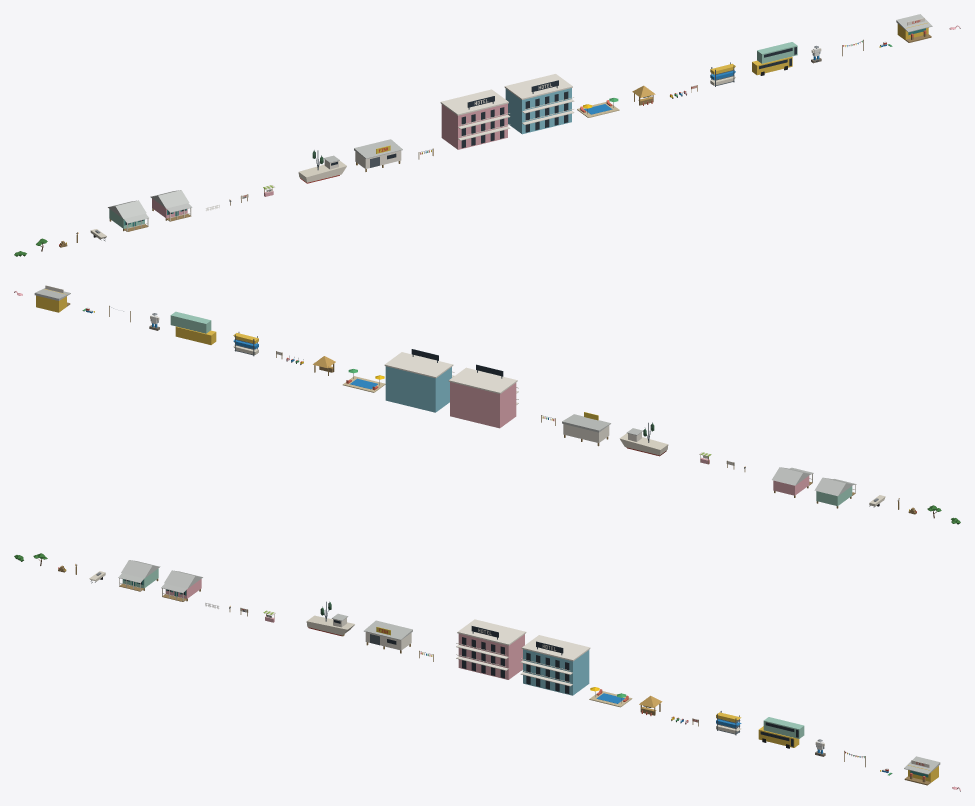
Rendered from keys-roadside.glb.
3 renders of one model, top to bottom at view 1: azimuth 30°, elevation 25°; view 2: azimuth 150°, elevation 25°; view 3: azimuth 330°, elevation 25°, orthographic.
Visible parts, largest first — view 1: keys_hotel_a_body, keys_hotel_b_body, keys_bus_stack_body, keys_fish_house_body, keys_cottage_b_body, keys_cottage_a_body, keys_shrimp_boat_body, keys_closed_bar_body; view 2: keys_hotel_a_body, keys_hotel_b_body, keys_fish_house_body, keys_bus_stack_body, keys_cottage_b_body, keys_cottage_a_body, keys_shrimp_boat_body, keys_closed_bar_body; view 3: keys_hotel_b_body, keys_hotel_a_body, keys_fish_house_body, keys_bus_stack_body, keys_cottage_a_body, keys_cottage_b_body, keys_shrimp_boat_body, keys_closed_bar_body.
Boxes of the visible parts, box(x1,y1,x2,y2) form: keys_hotel_a_body: box(440, 89, 510, 149); keys_hotel_b_body: box(504, 74, 574, 134); keys_bus_stack_body: box(752, 42, 797, 75); keys_fish_house_body: box(354, 139, 402, 171); keys_cottage_b_body: box(150, 190, 192, 221); keys_cottage_a_body: box(108, 200, 148, 231); keys_shrimp_boat_body: box(298, 150, 346, 183); keys_closed_bar_body: box(896, 14, 932, 42); keys_hotel_a_body: box(448, 364, 518, 428); keys_hotel_b_body: box(384, 349, 454, 412); keys_fish_house_body: box(562, 412, 610, 446); keys_bus_stack_body: box(170, 311, 216, 344); keys_cottage_b_body: box(772, 467, 813, 497); keys_cottage_a_body: box(814, 477, 856, 508); keys_shrimp_boat_body: box(619, 422, 668, 456); keys_closed_bar_body: box(34, 285, 70, 312); keys_hotel_b_body: box(520, 635, 590, 695); keys_hotel_a_body: box(456, 619, 526, 679); keys_fish_house_body: box(364, 620, 412, 653); keys_bus_stack_body: box(758, 717, 804, 748); keys_cottage_a_body: box(118, 560, 160, 591); keys_cottage_b_body: box(161, 570, 202, 601); keys_shrimp_boat_body: box(306, 601, 354, 636); keys_closed_bar_body: box(904, 756, 940, 785).
Bounding box in the file's own units: 266 × 11.65 × 11.5.
